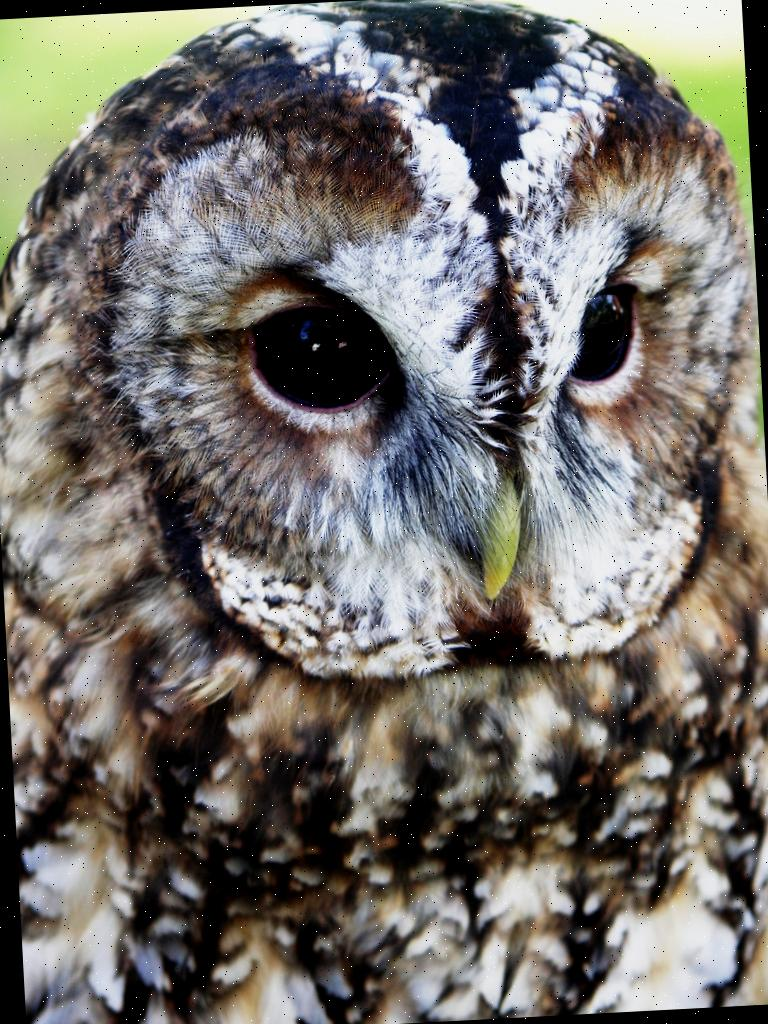Owl: (45, 11, 756, 957)
